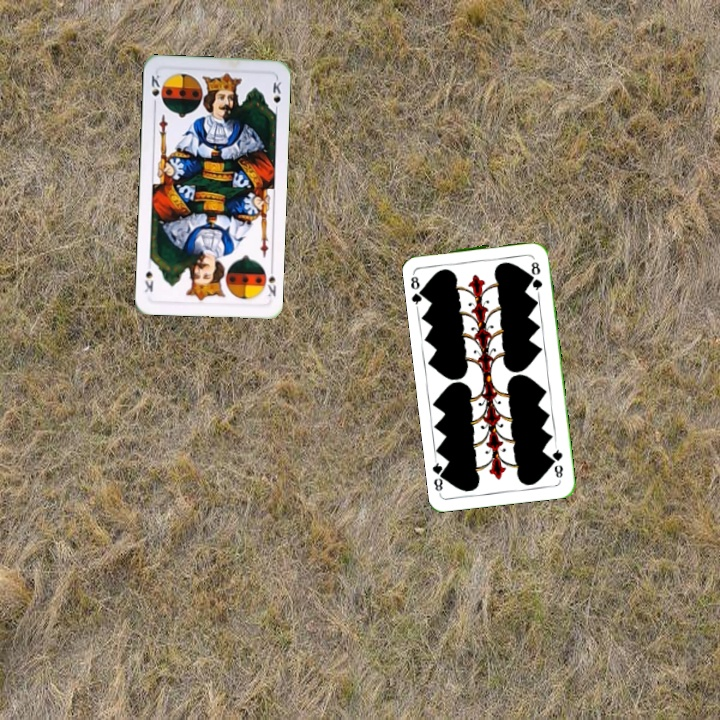G8: (407, 268, 428, 309), (548, 442, 566, 480)
SK: (147, 71, 162, 110), (264, 262, 279, 299)
